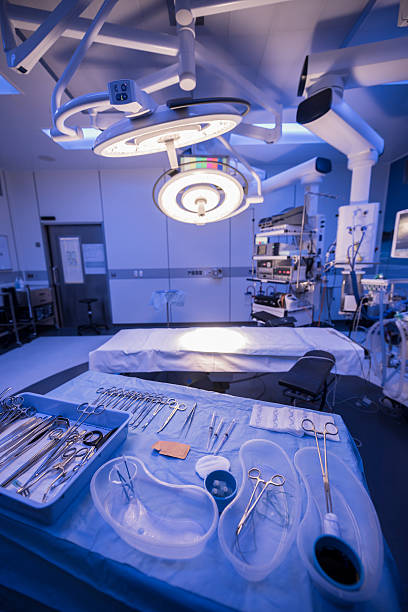bedside_monitor: (387, 206, 408, 260)
breathing_tube: (369, 314, 407, 401)
chair: (77, 296, 112, 338)
door_handle: (50, 265, 63, 288)
electrosurgical_unit: (251, 285, 287, 308)
operating_bed: (84, 321, 379, 381)
surgical_instrument: (1, 382, 386, 612)
surgical_light: (91, 92, 251, 164), (149, 159, 257, 230)
